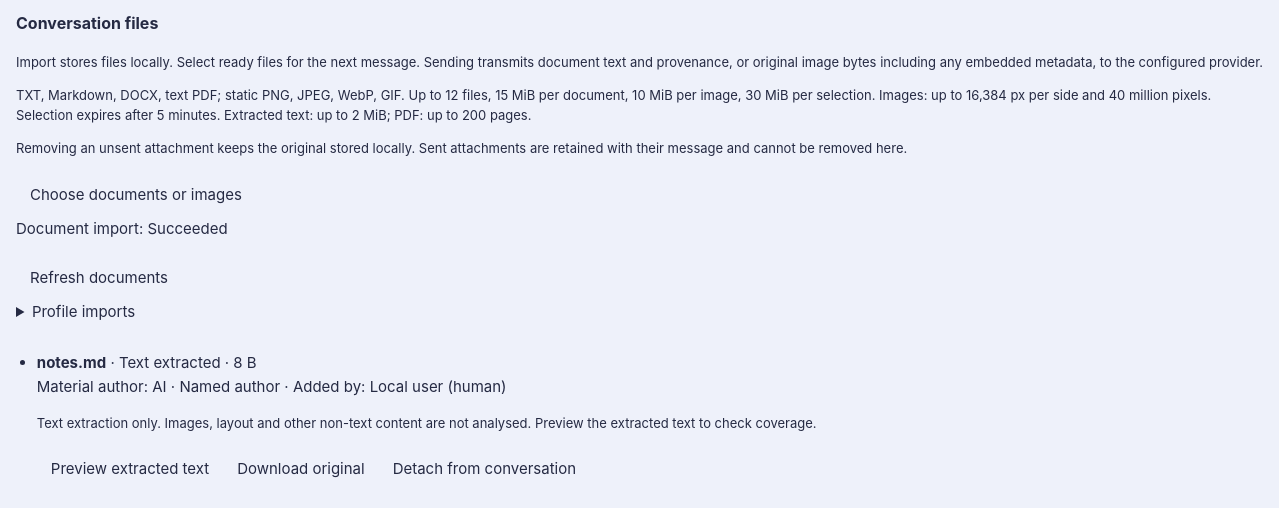
Test: detach uses attachment CAS without issuing a delete-original request
Click the button "Detach from conversation" at (484, 469), box [379,446,590,491]
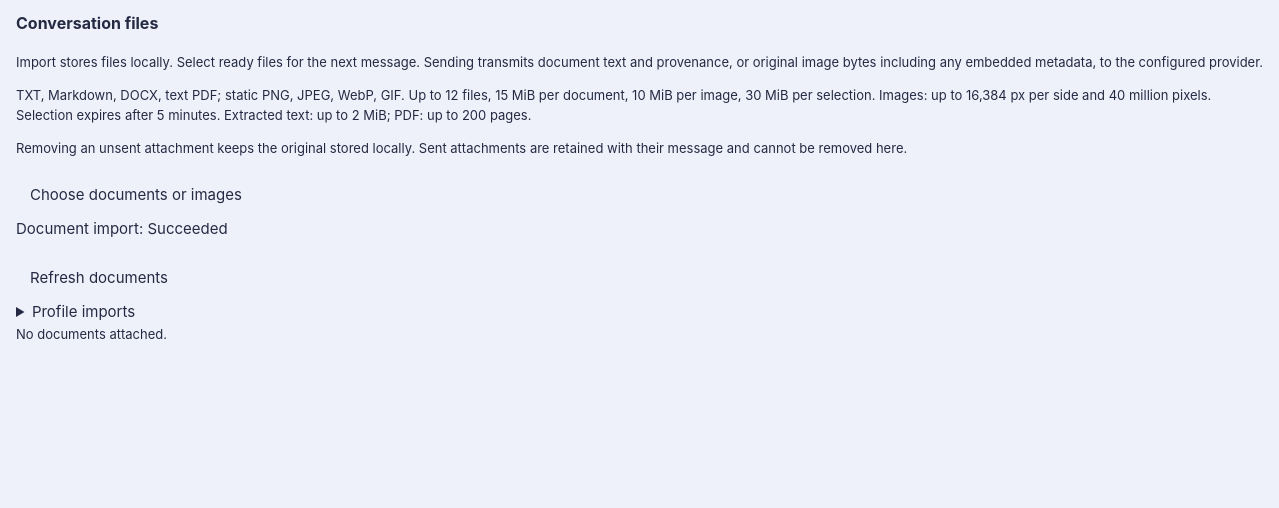
Check: the text "No documents attached" is shown, box [16,326,167,342]
